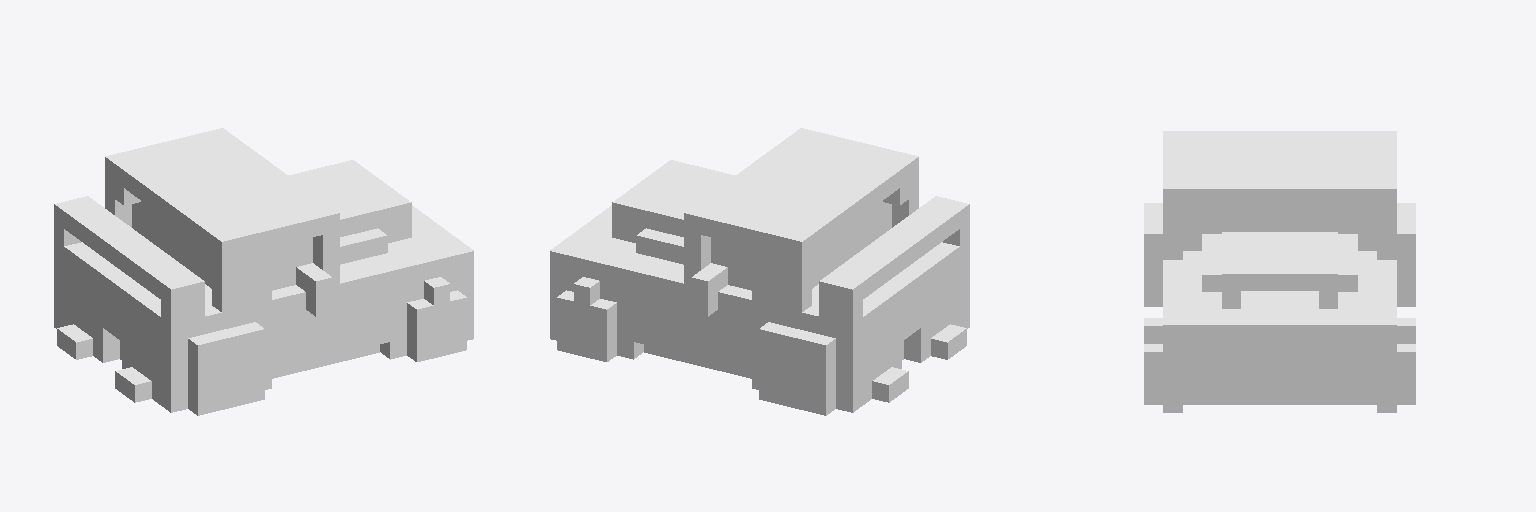
The model's file is car1-0.obj.
3 views of the same model, side by side, from view 1: azimuth 30°, elevation 25°; view 2: azimuth 150°, elevation 25°; view 3: azimuth 270°, elevation 25° (orthographic).
Parts seen in each view (by area): view 1: object 1; view 2: object 1; view 3: object 1.
Part boxes in pixels (x1,y1,x2,y2): object 1: (54, 128, 473, 415); object 1: (550, 128, 969, 415); object 1: (1144, 131, 1415, 412).
Size of the model in its own units: 1.9 by 0.9 by 1.4.